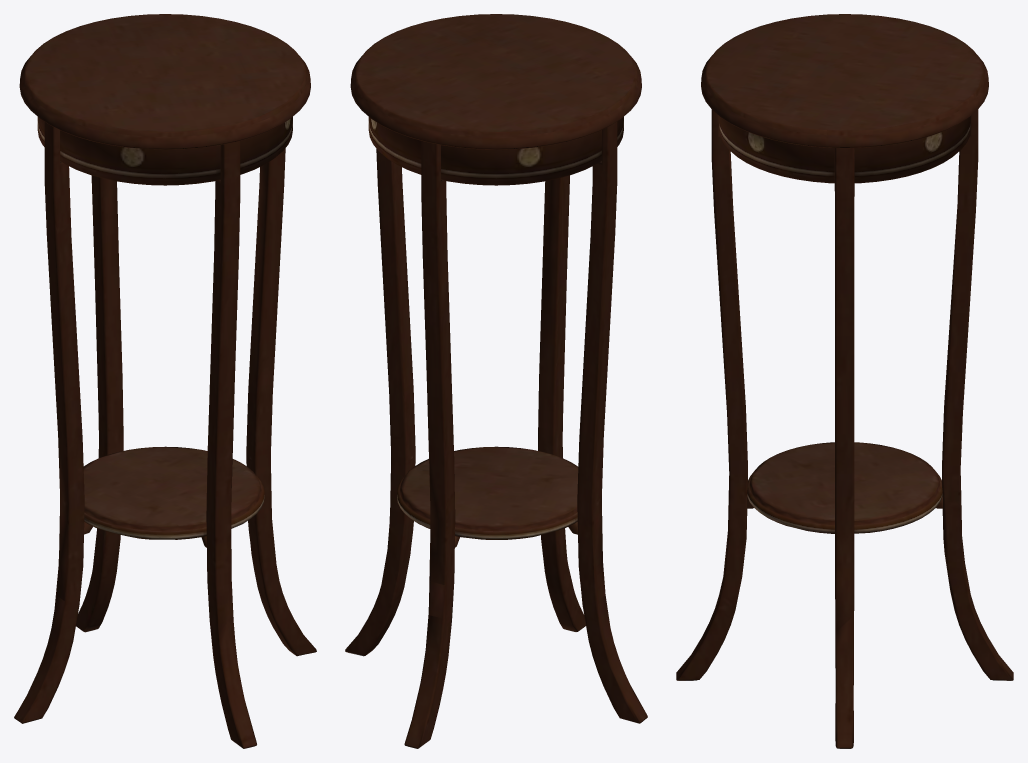
File: side_table.glb
The picture shows the model from 3 angles, left to right: view 1: azimuth 30°, elevation 25°; view 2: azimuth 150°, elevation 25°; view 3: azimuth 270°, elevation 25°; orthographic projection.
Parts seen in each view (by area): view 1: side_table_tall_01; view 2: side_table_tall_01; view 3: side_table_tall_01.
Part boxes in pixels (left/top/right/bottom): side_table_tall_01: left=14, top=14, right=316, bottom=748; side_table_tall_01: left=345, top=14, right=647, bottom=748; side_table_tall_01: left=676, top=14, right=1013, bottom=748.
Size of the model in its own units: 0.384 by 0.7611 by 0.384.
1 material, 1 textured.
